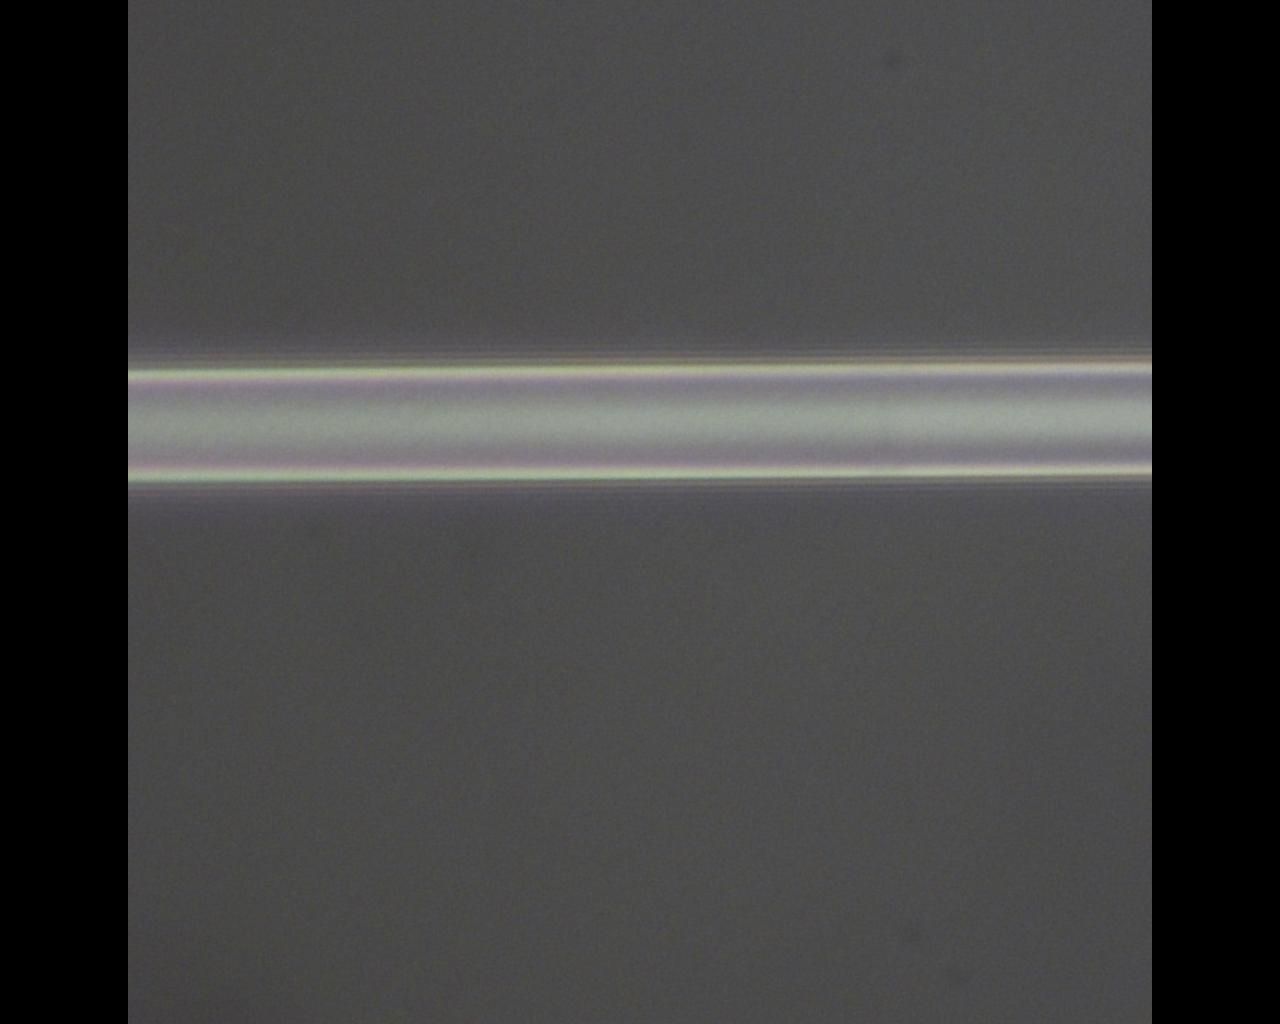fiber: (0, 71, 1280, 984)
